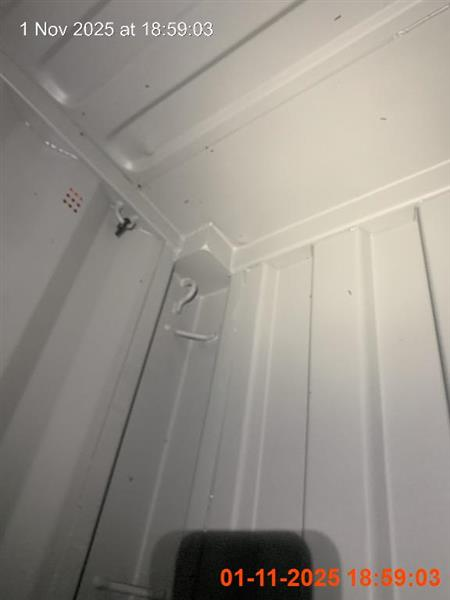hole: (169, 530, 315, 599)
